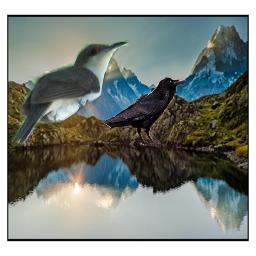Crow: (101, 75, 186, 145)
Cuckoo: (11, 40, 130, 147)
